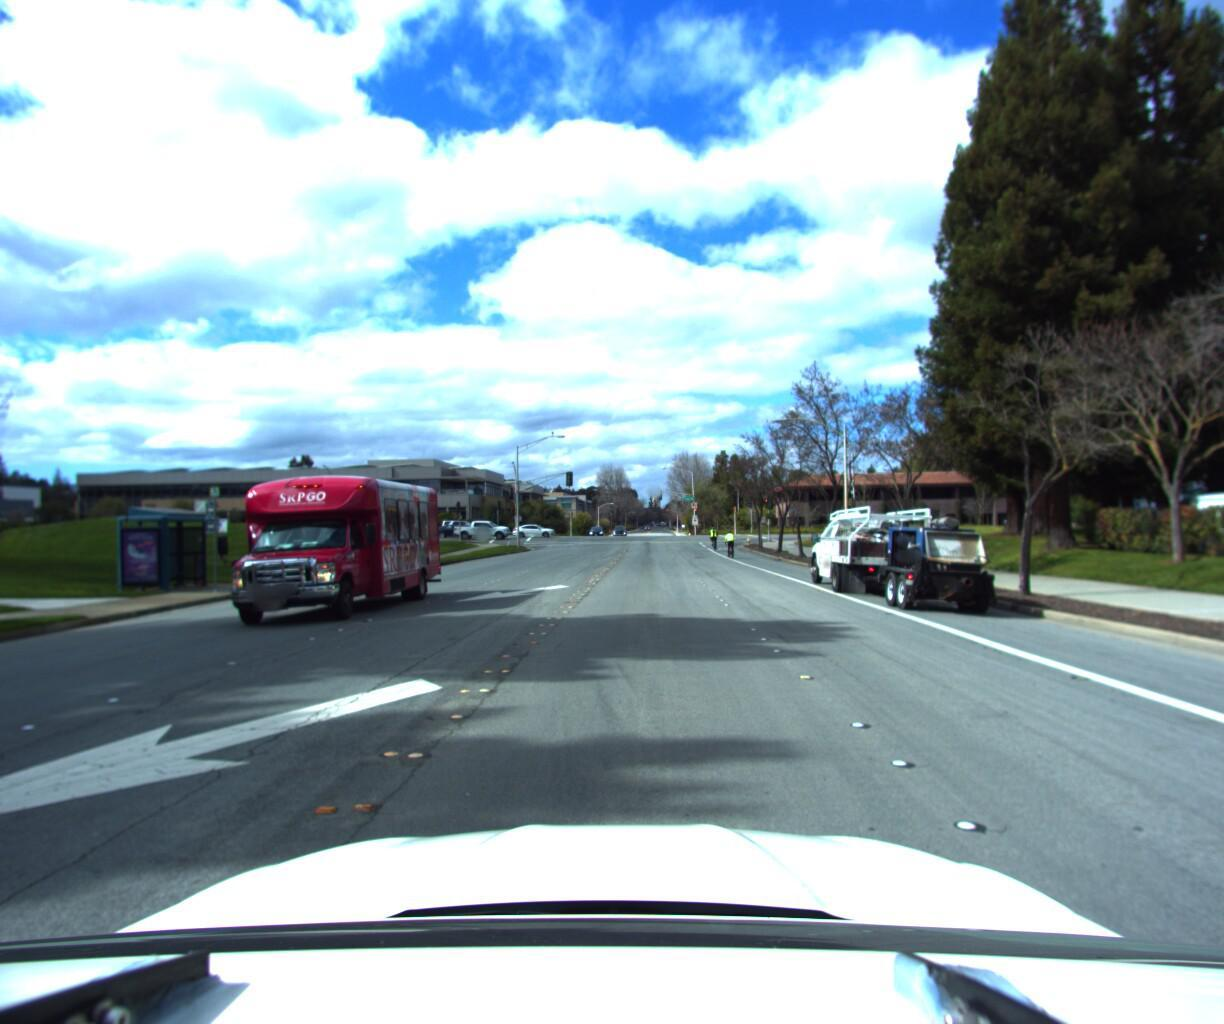bicycle: (721, 528, 737, 558), (706, 529, 719, 555)
bus: (173, 450, 456, 642)
car: (452, 521, 511, 540), (508, 524, 554, 539)
truck: (787, 495, 1034, 623)
